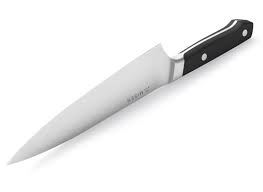knife: (8, 17, 254, 166)
